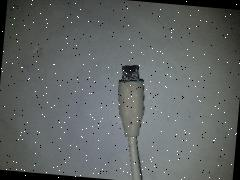electronic: (66, 0, 163, 139)
